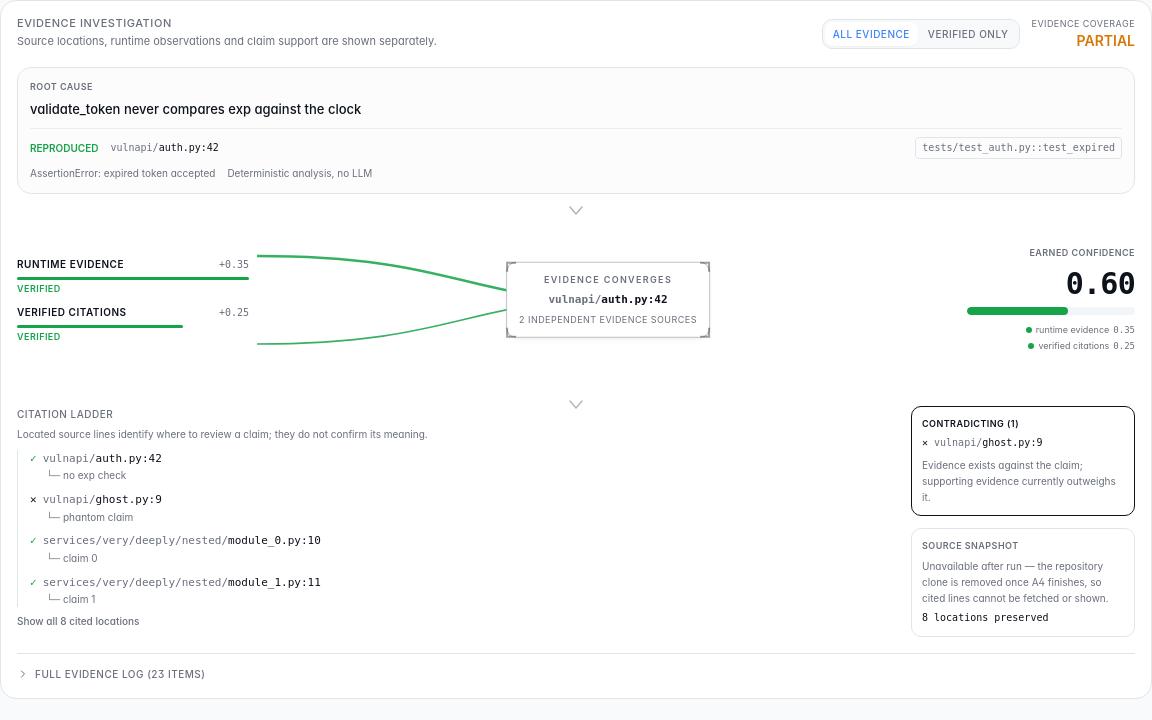
Test: EvidenceInvestigationBoard — repository scale › caps the citation ladder and offers the rest on demand
Expected: the text "module_5.py:15" is not shown
Click the button "Show all 8 cited locations". click: (78,621)
box: x1=17 y1=613 x2=139 y2=629
(page scrolled)
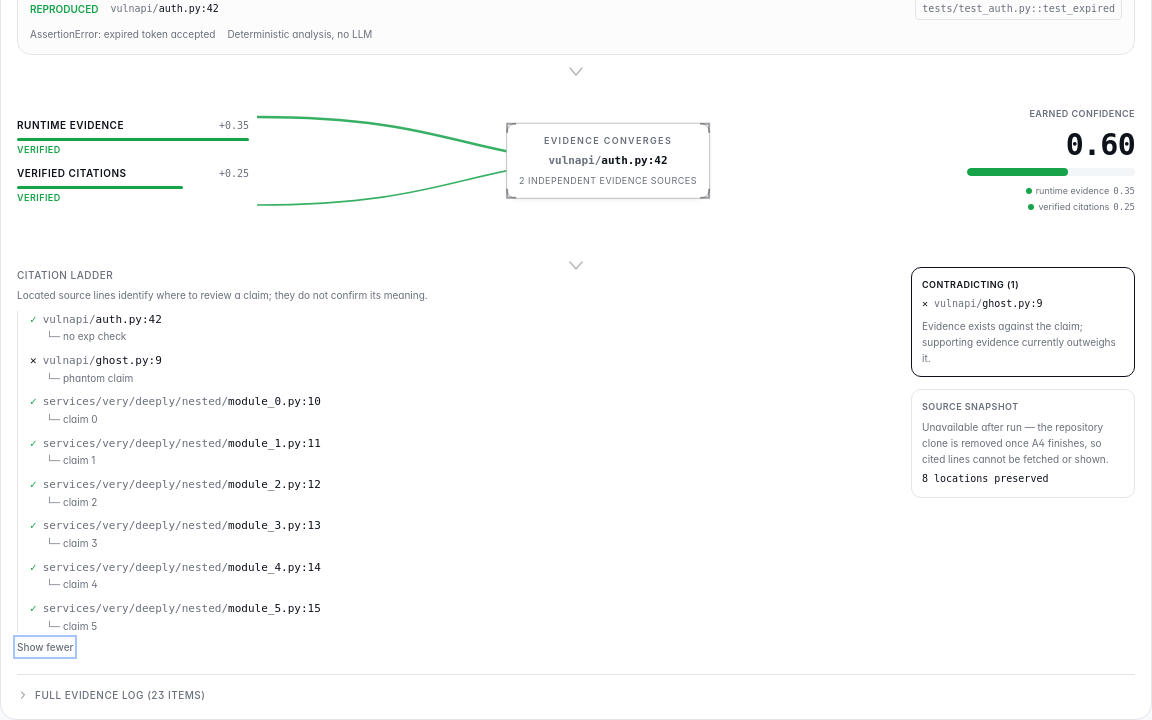
Now the text "module_5.py:15" is shown, box x1=228 y1=600 x2=321 y2=618
